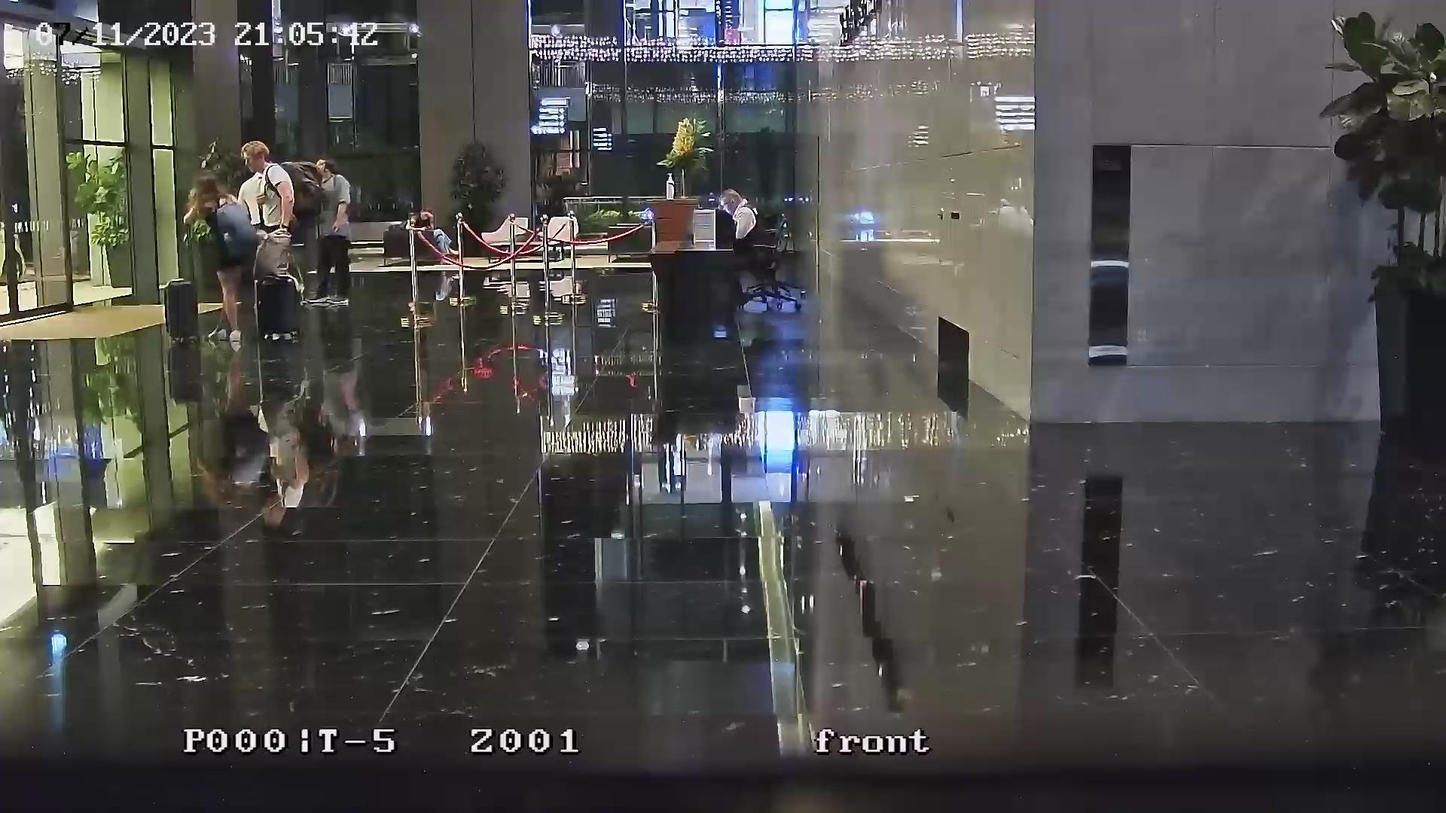person: (181, 171, 257, 346), (239, 139, 299, 303), (309, 157, 352, 307), (715, 186, 770, 263), (407, 208, 462, 264)
